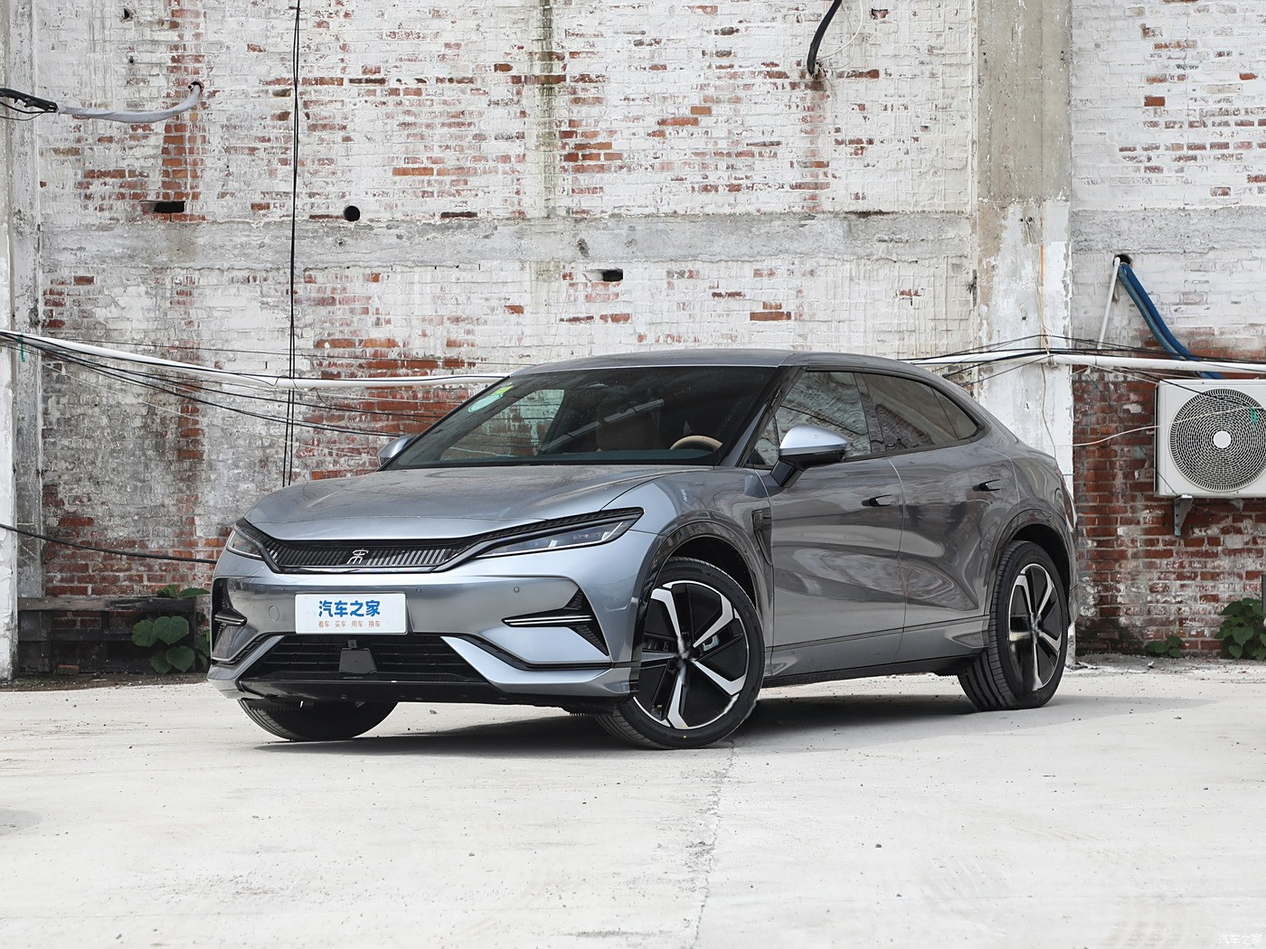BYD Song: (347, 548, 369, 564)
